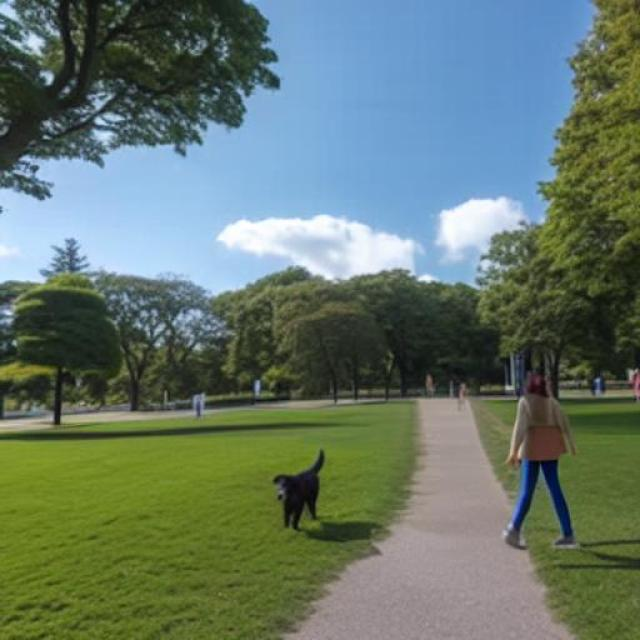Unleashed_Dog: (272, 439, 562, 532)
